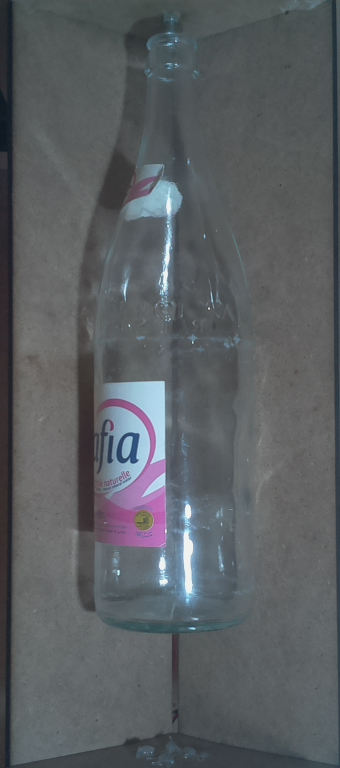Glass: (86, 26, 269, 641)
